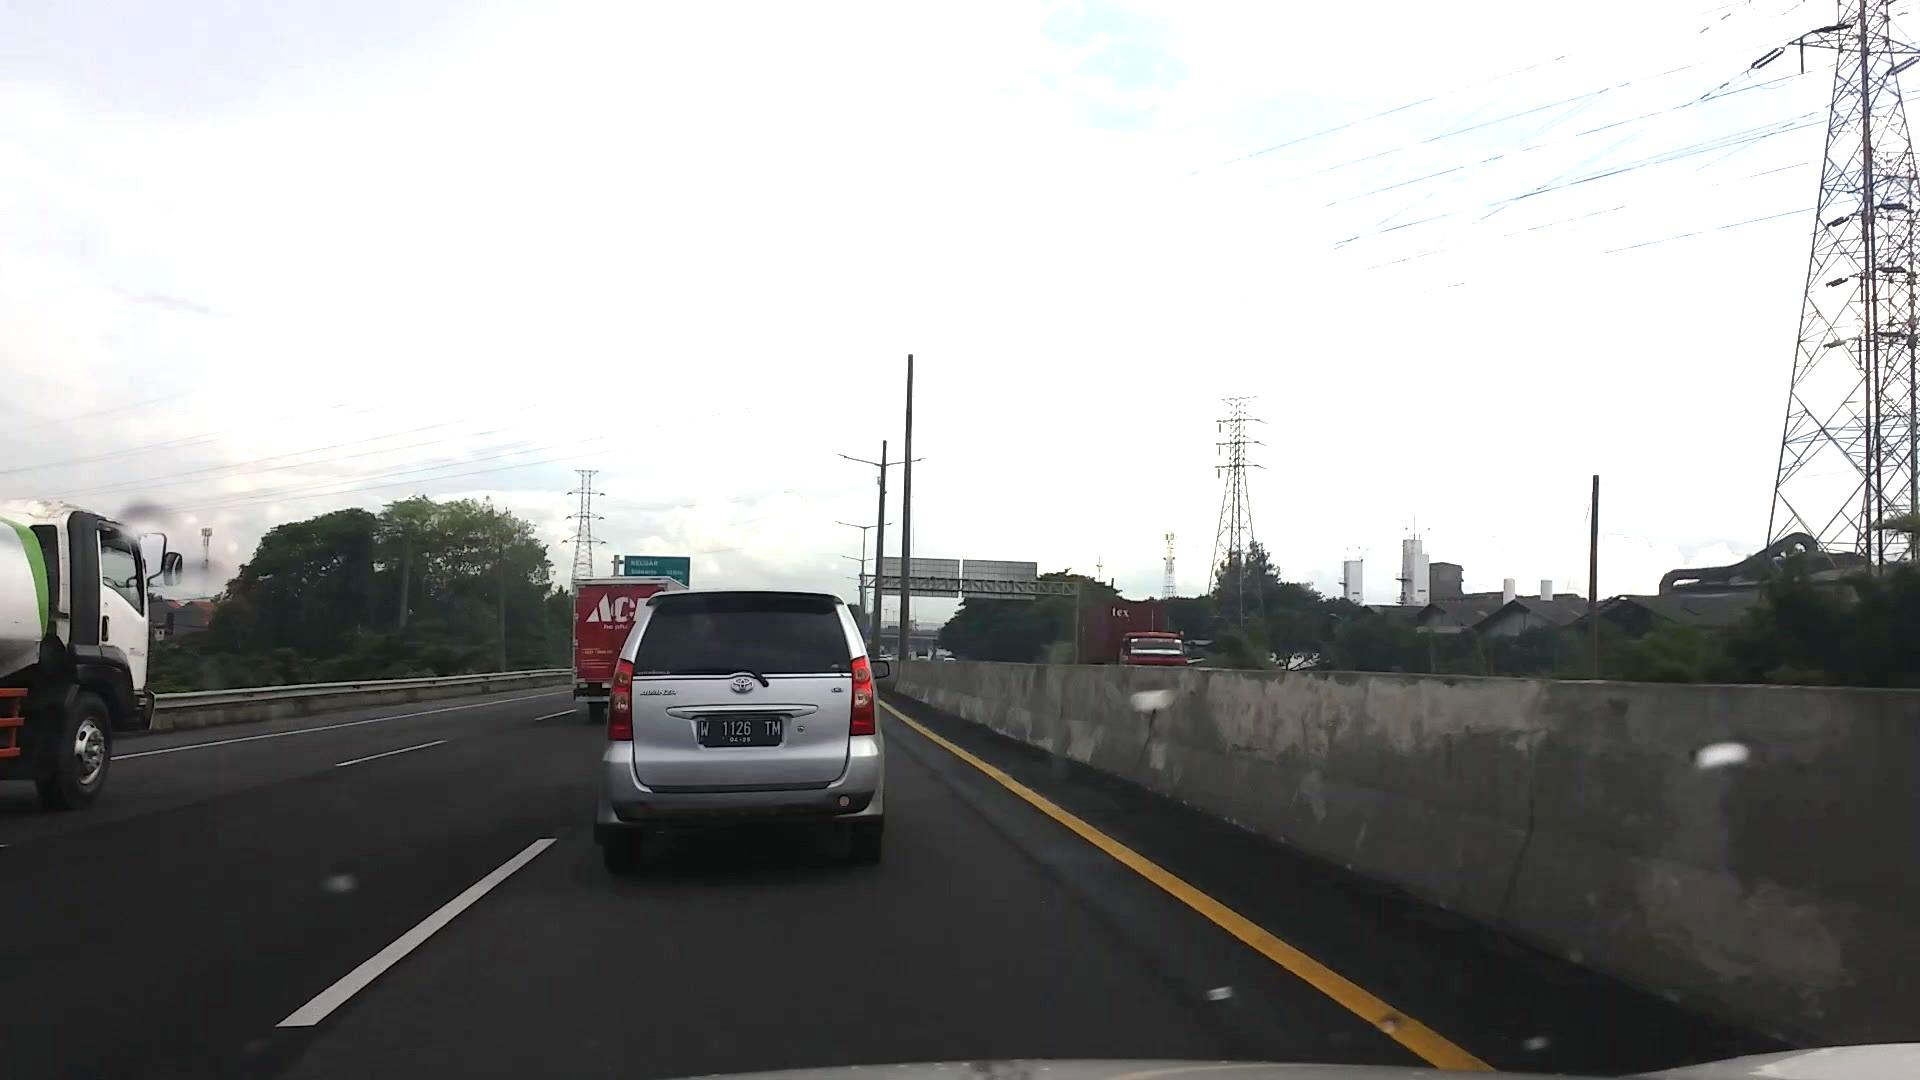plate_positive: (698, 717, 783, 746)
